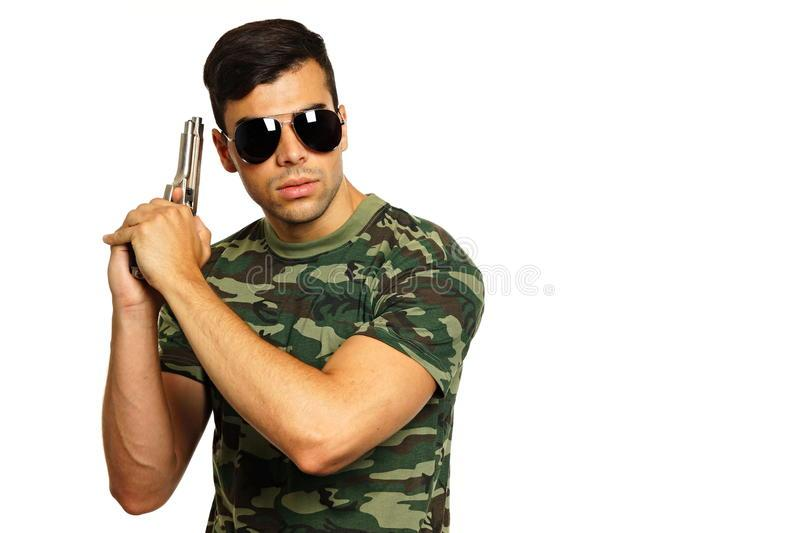criminal: (99, 15, 486, 533)
weapon: (124, 114, 207, 288)
